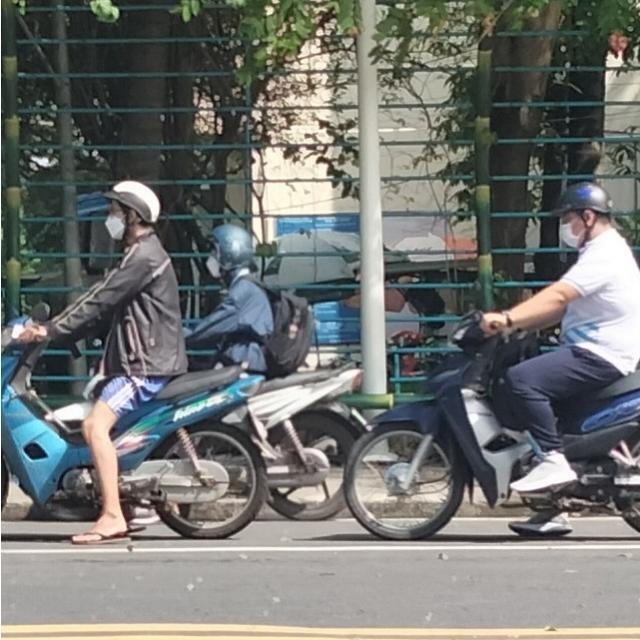Helmet: (550, 180, 614, 248), (100, 182, 160, 240), (200, 222, 256, 280)
